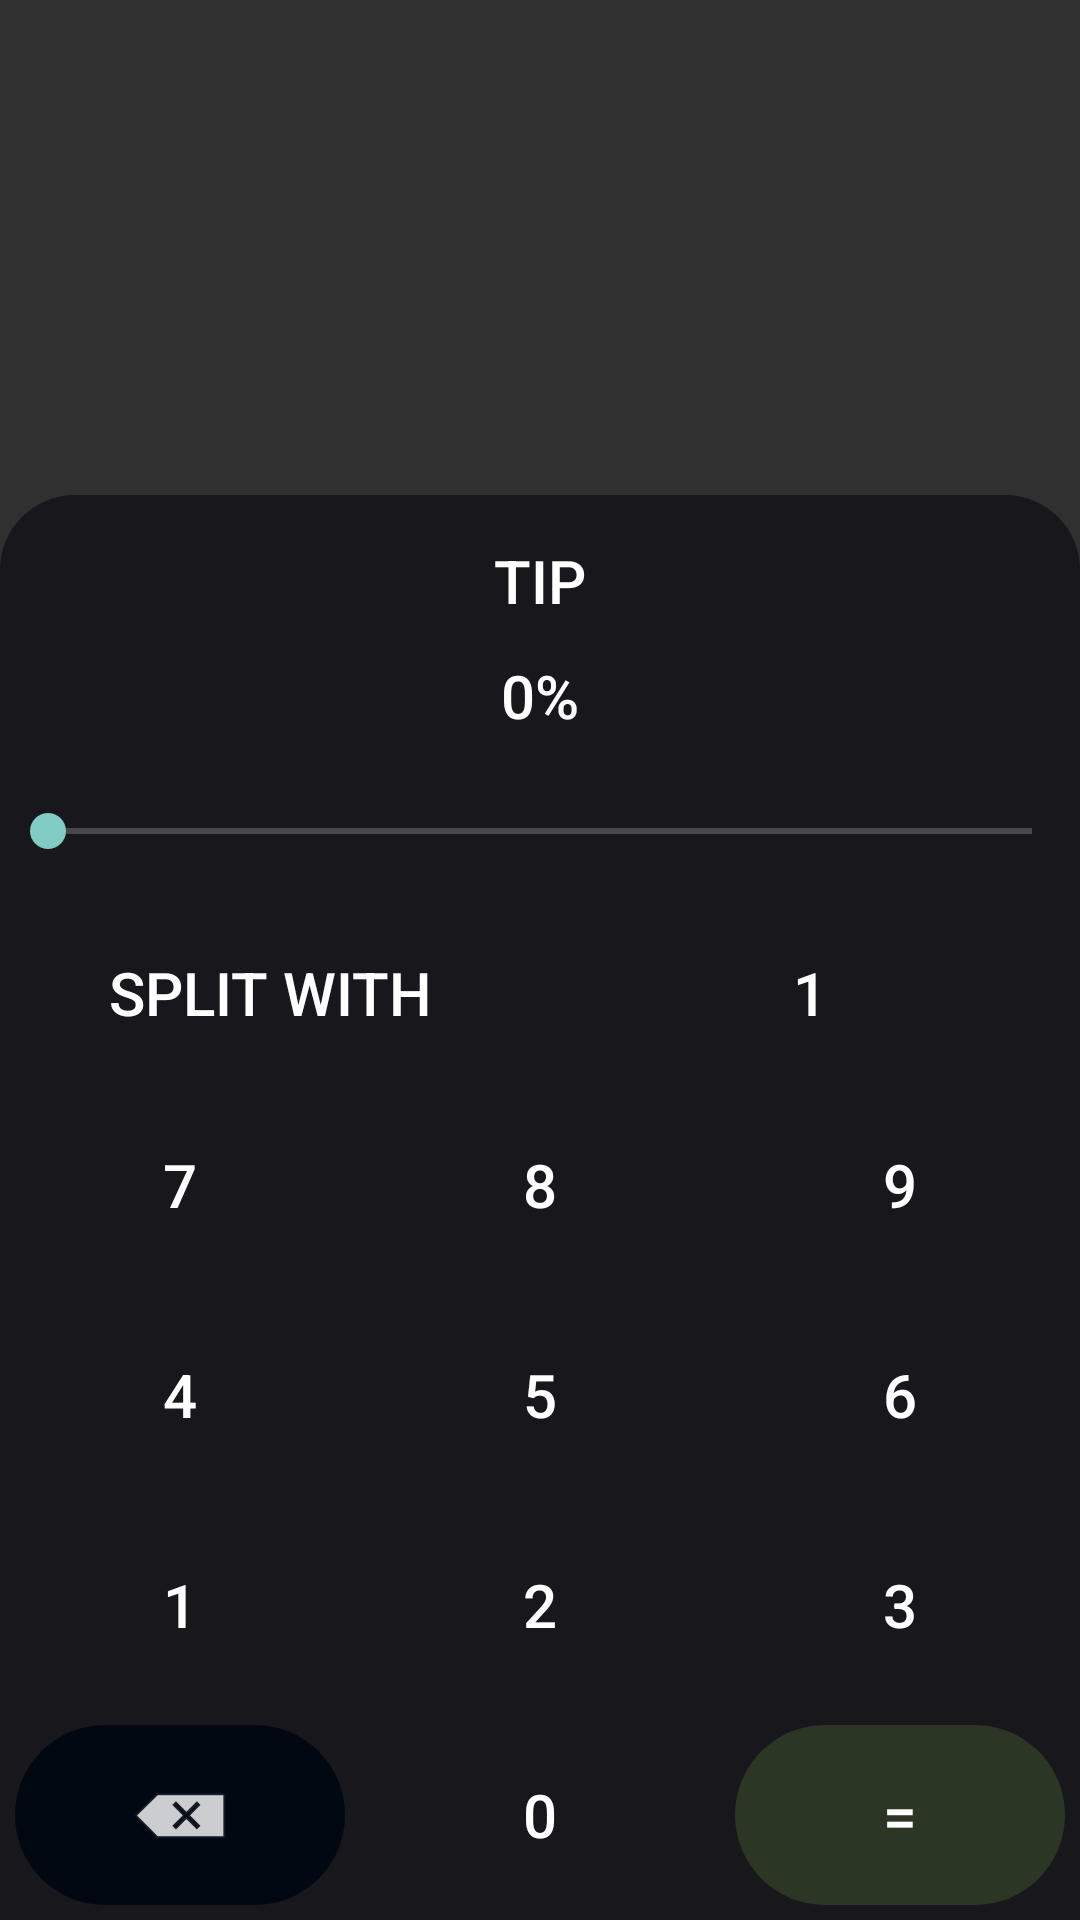

Named icons in this screenshot (1080w x 1920h) and their bounding boxes, [left=x1, top=y1, right=x2, bottom=y2]:
backspace: [left=137, top=1795, right=224, bottom=1837]
